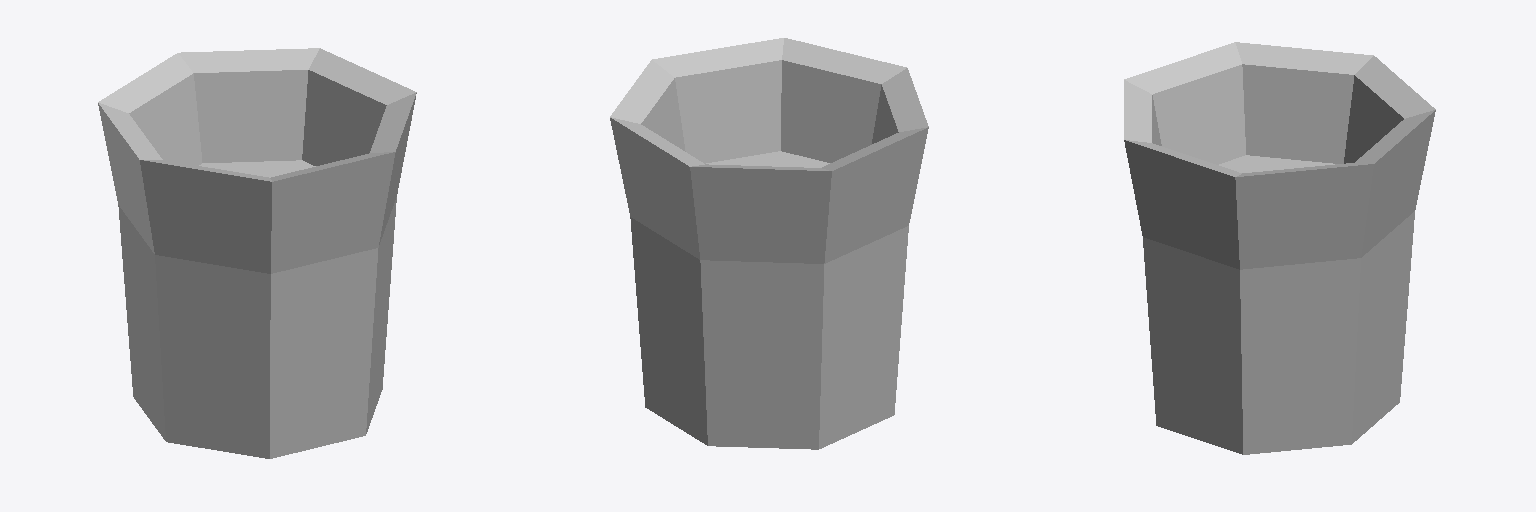
The model's file is obstacle_2.obj.
The picture shows the model from 3 angles: view 1: azimuth 30°, elevation 25°; view 2: azimuth 150°, elevation 25°; view 3: azimuth 270°, elevation 25°; orthographic projection.
Visible parts, largest first — view 1: Cylinder; view 2: Cylinder; view 3: Cylinder.
Boxes of the visible parts, <box> form: Cylinder: <box>98,48,416,458</box>; Cylinder: <box>610,38,928,449</box>; Cylinder: <box>1124,42,1435,454</box>.
Size of the model in its own units: 0.9985 by 1.01 by 0.9735.